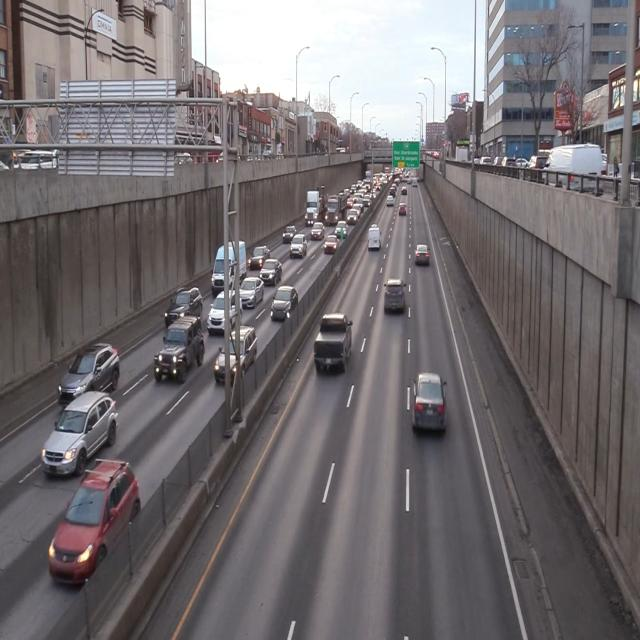Car: (48, 461, 136, 586), (43, 390, 116, 478), (58, 344, 115, 414), (154, 320, 203, 381), (314, 312, 354, 376), (213, 326, 256, 380), (412, 373, 448, 433), (212, 238, 245, 294), (207, 292, 241, 333), (166, 289, 200, 329), (270, 288, 296, 321), (383, 278, 406, 314), (239, 277, 264, 308), (248, 245, 269, 271), (260, 259, 280, 286), (290, 232, 306, 260), (368, 225, 382, 253), (414, 243, 430, 266), (324, 234, 338, 254), (282, 224, 296, 243)
